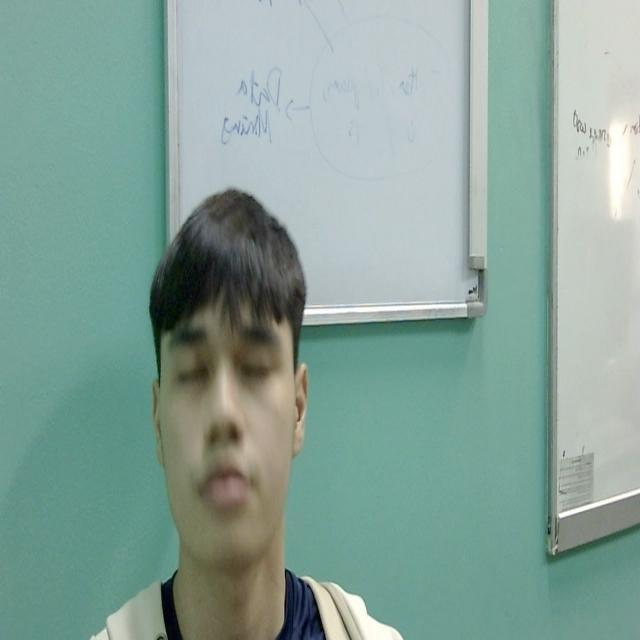sleepy: (156, 327, 294, 559)
